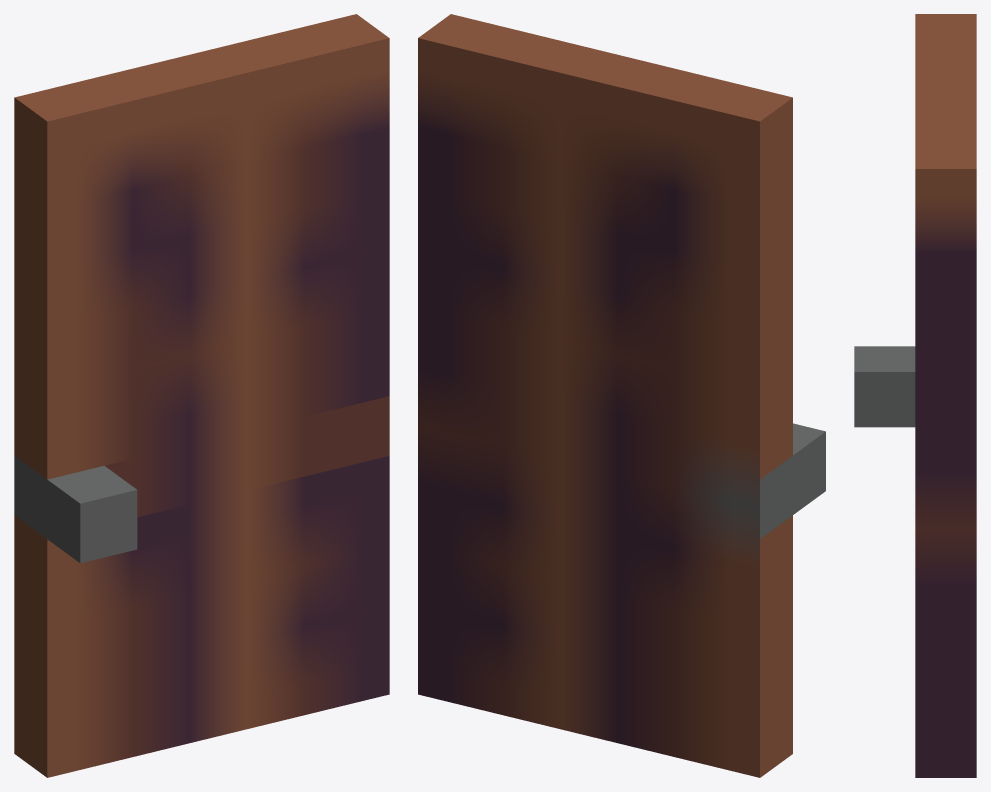
File: door_2.fbx
3 views of the same model, side by side, from view 1: azimuth 30°, elevation 25°; view 2: azimuth 150°, elevation 25°; view 3: azimuth 270°, elevation 25° (orthographic). The views are drawn at different scales.
Visible parts, largest first — view 1: door_2; view 2: door_2; view 3: door_2.
Boxes of the visible parts, x1,y1,x2,y2 form: door_2: (14, 14, 389, 777); door_2: (418, 14, 825, 777); door_2: (854, 14, 976, 777).
Size of the model in its own units: 6 by 11 by 2.
